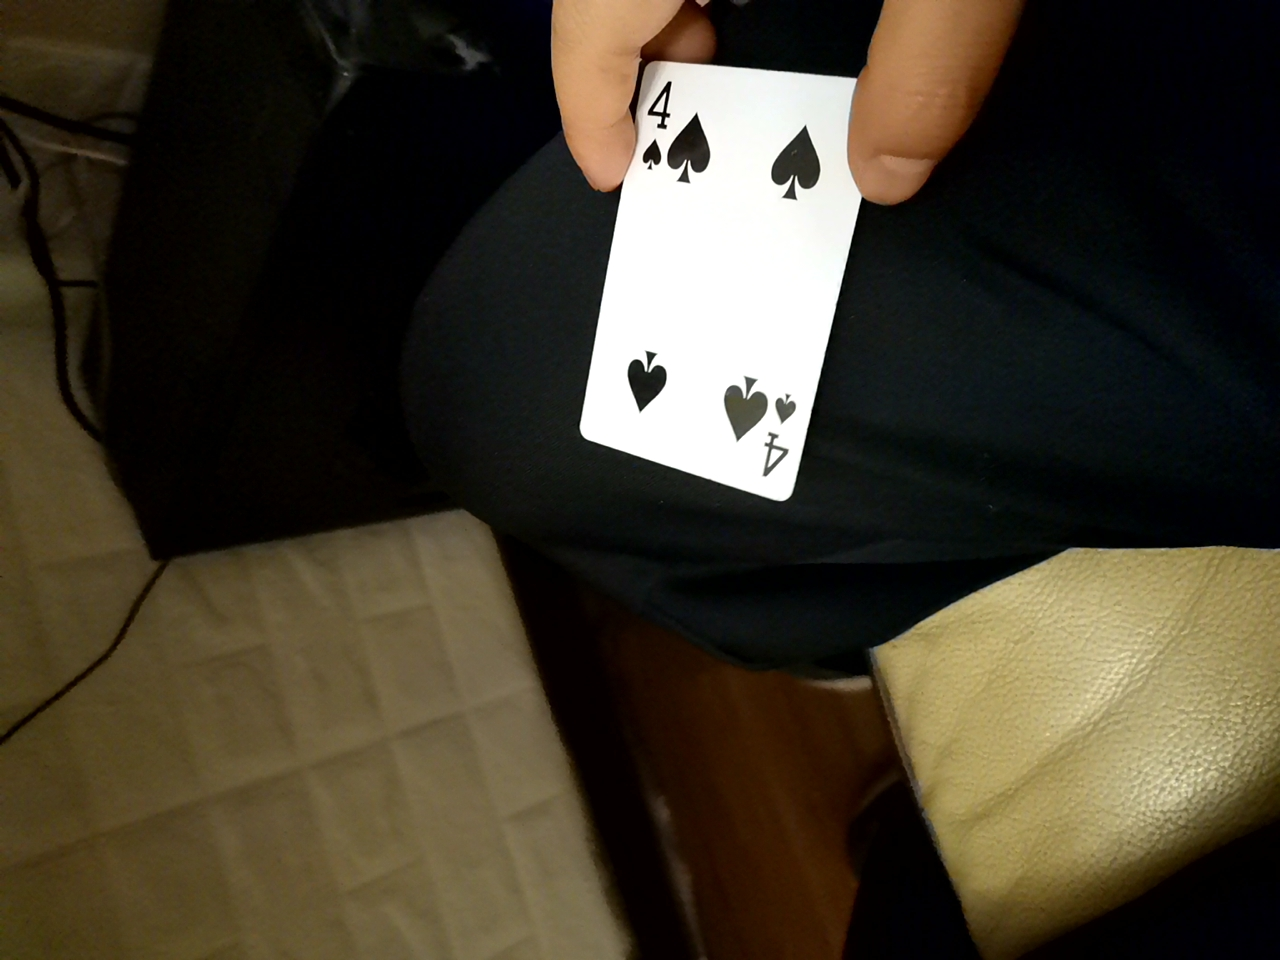ht 4: (546, 47, 874, 521)
